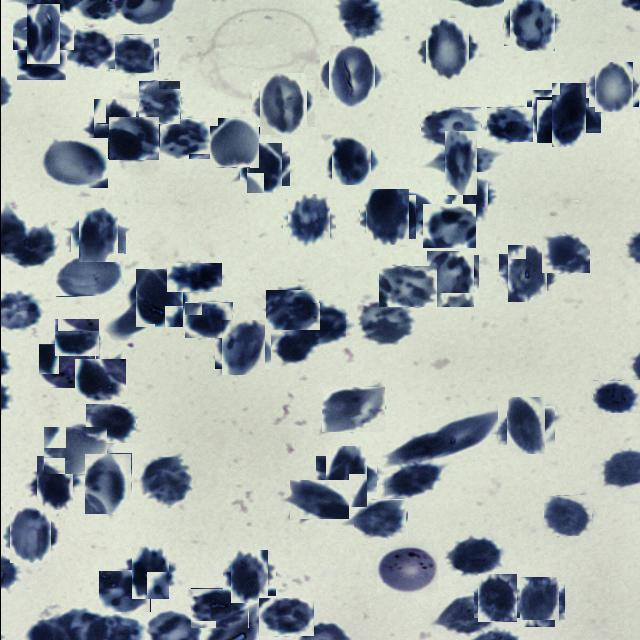red blood cell: (39, 138, 107, 188), (55, 252, 124, 297), (43, 426, 107, 474), (255, 76, 310, 131), (323, 49, 378, 103), (84, 453, 131, 514), (321, 387, 384, 432), (421, 23, 474, 76), (132, 271, 185, 324), (424, 253, 476, 305), (88, 103, 140, 155), (319, 452, 372, 502), (420, 106, 481, 148), (358, 302, 415, 346), (209, 118, 259, 168), (140, 458, 190, 508), (217, 322, 267, 372), (543, 90, 593, 140), (362, 192, 412, 242), (506, 0, 558, 48), (5, 510, 54, 560), (528, 91, 578, 140), (376, 193, 433, 235), (378, 266, 436, 307), (422, 204, 475, 248), (190, 588, 248, 628), (438, 594, 493, 636), (502, 250, 550, 298), (436, 140, 484, 188), (289, 480, 348, 519), (284, 197, 332, 244), (502, 402, 550, 449), (108, 116, 159, 160), (74, 211, 121, 258), (19, 10, 66, 57), (74, 359, 125, 402), (98, 570, 150, 612), (15, 36, 64, 80), (352, 499, 407, 538), (256, 598, 312, 636), (265, 290, 318, 330), (226, 554, 272, 600), (159, 118, 210, 159), (446, 538, 501, 576), (32, 461, 78, 506), (127, 550, 172, 596), (516, 580, 562, 624), (543, 495, 592, 536), (296, 303, 344, 344), (85, 404, 135, 443), (109, 34, 159, 73), (328, 138, 372, 182), (242, 146, 286, 190), (474, 576, 518, 620), (591, 66, 635, 110), (66, 29, 114, 69), (446, 176, 491, 218), (541, 234, 589, 273), (138, 80, 180, 124), (384, 464, 440, 496), (184, 302, 232, 338), (54, 318, 99, 356), (486, 107, 533, 142), (166, 263, 221, 292), (592, 380, 640, 413)
ring: (376, 547, 437, 593), (38, 344, 95, 388)
